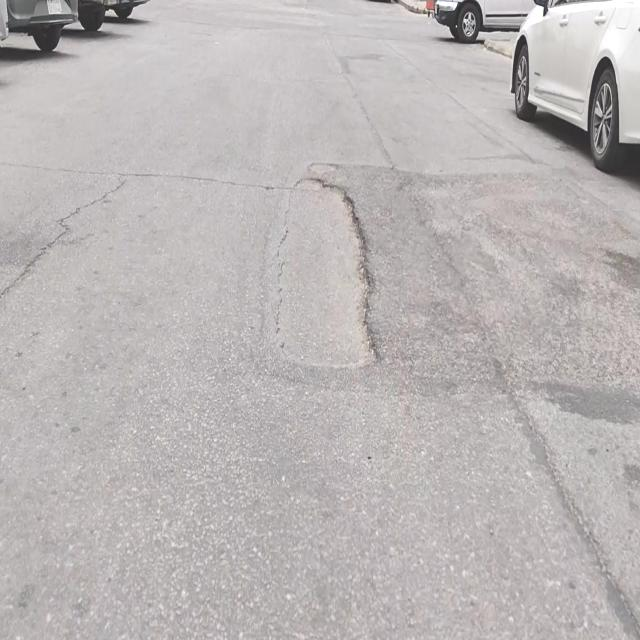Potholes: (276, 171, 381, 373)
